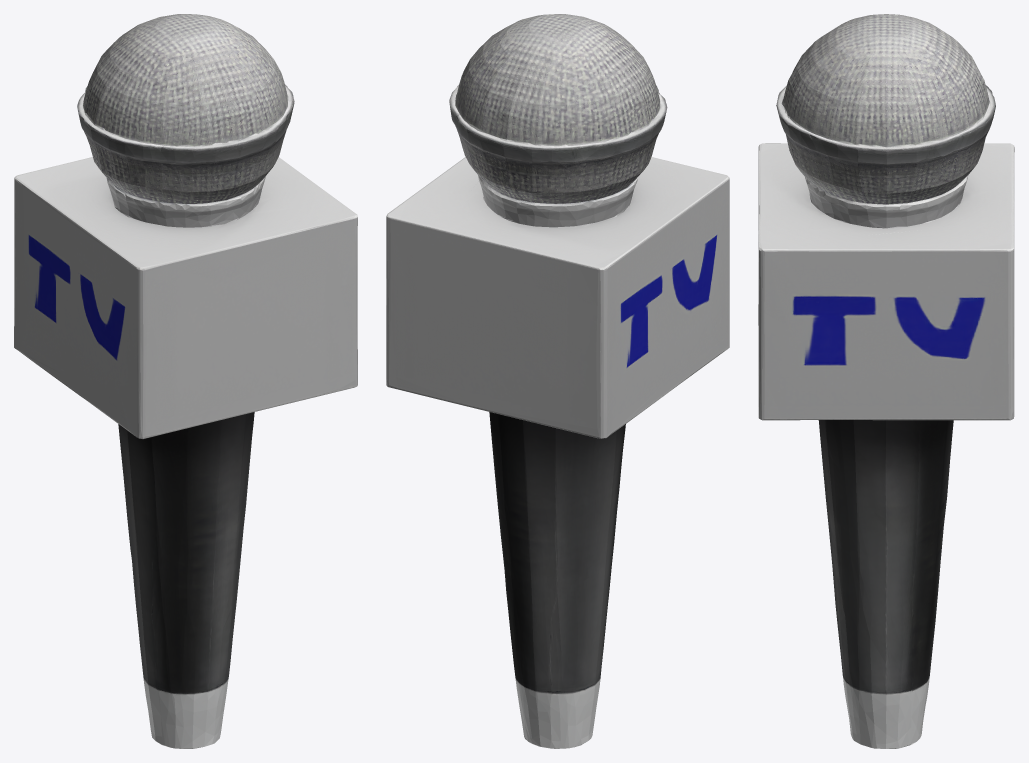
3 renders of one model, left to right at view 1: azimuth 30°, elevation 25°; view 2: azimuth 150°, elevation 25°; view 3: azimuth 270°, elevation 25°, orthographic.
Parts seen in each view (by area): view 1: world; view 2: world; view 3: world.
Boxes of the visible parts, <box> form: world: <box>14,14,357,748</box>; world: <box>386,14,729,748</box>; world: <box>758,14,1014,748</box>.
Size of the model in its own units: 0.325 by 1 by 0.3269.
1 material, 1 textured.
